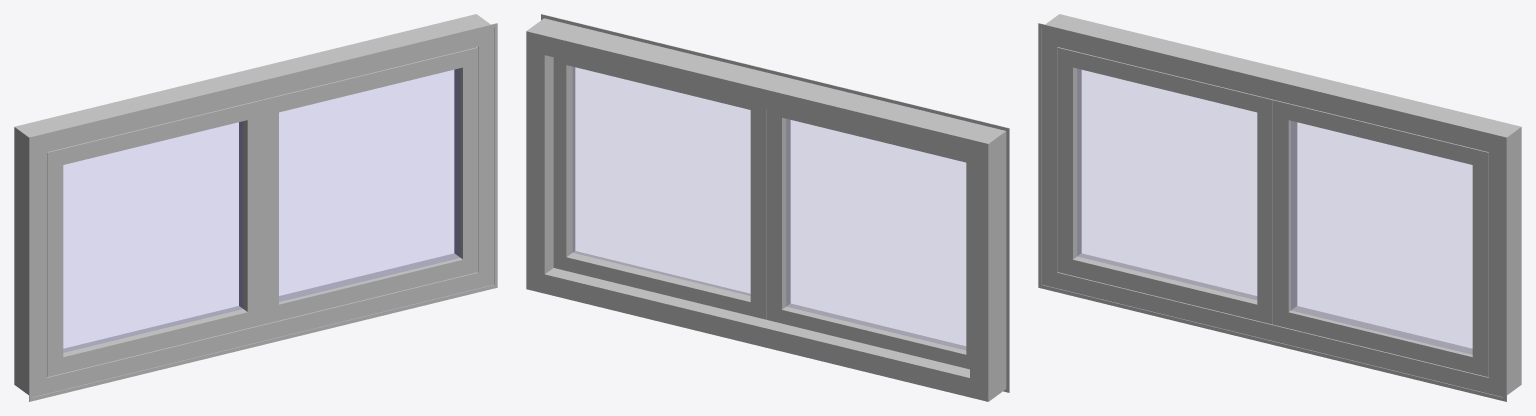
The model's file is window-01.fbx.
3 renders of one model, left to right at view 1: azimuth 30°, elevation 25°; view 2: azimuth 150°, elevation 25°; view 3: azimuth 330°, elevation 25°, orthographic.
Visible parts, largest first — view 1: Window.L, Window.R, WindowFrame; view 2: WindowFrame, Window.R, Window.L; view 3: Window.L, Window.R, WindowFrame.
Part boxes in pixels (<box>): Window.L: <box>47,99,263,376</box>; Window.R: <box>263,47,478,324</box>; WindowFrame: <box>14,14,497,401</box>; WindowFrame: <box>526,14,1009,401</box>; Window.R: <box>553,57,766,319</box>; Window.L: <box>766,109,969,369</box>; Window.L: <box>1057,47,1273,324</box>; Window.R: <box>1273,100,1488,376</box>; WindowFrame: <box>1038,14,1521,401</box>.
Size of the model in its own units: 152 by 82 by 10.2.
